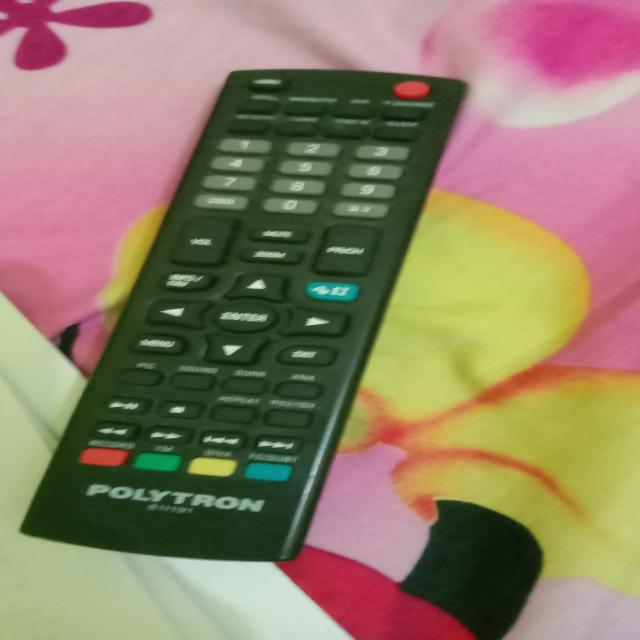remote: (7, 63, 492, 571)
